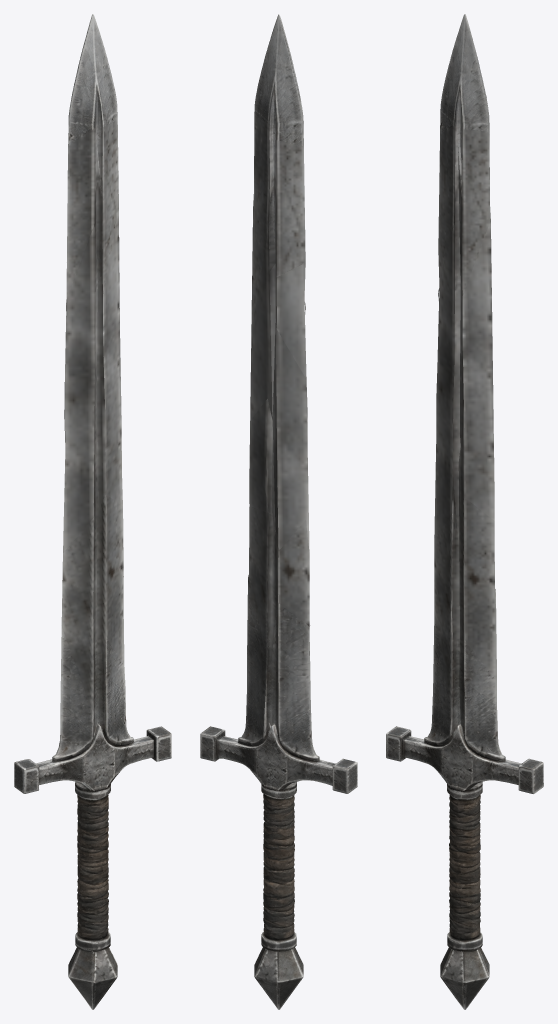
Rendered from GRS025_Remesh_10k.fbx.
3 views of the same model, side by side, from view 1: azimuth 30°, elevation 25°; view 2: azimuth 150°, elevation 25°; view 3: azimuth 330°, elevation 25° (orthographic).
Parts seen in each view (by area): view 1: output_unwrapped; view 2: output_unwrapped; view 3: output_unwrapped.
Part boxes in pixels (x1,y1,x2,y2): output_unwrapped: (14, 14, 171, 1009); output_unwrapped: (200, 14, 357, 1009); output_unwrapped: (386, 14, 543, 1009).
Size of the model in its own units: 29.66 by 190 by 8.56.
Materials: 1 (1 with a texture image).
